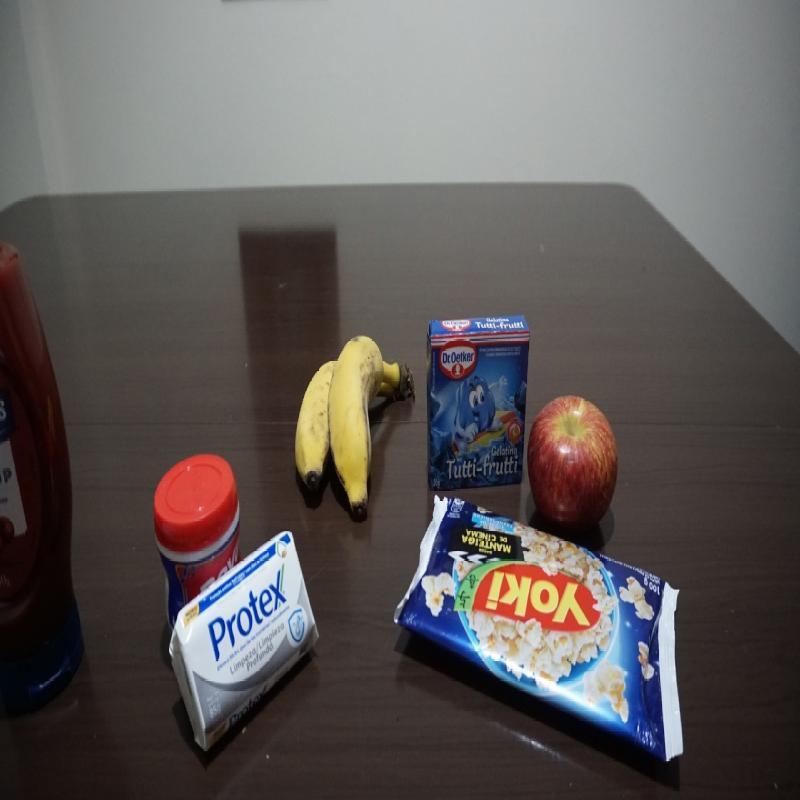Apple: (528, 389, 626, 532)
Banana: (291, 334, 416, 524)
Gelatine: (425, 311, 533, 506)
Ketchup: (0, 227, 86, 724)
Popcorn: (393, 494, 688, 766)
Soap: (169, 526, 319, 756)
Yeast: (147, 446, 247, 642)
